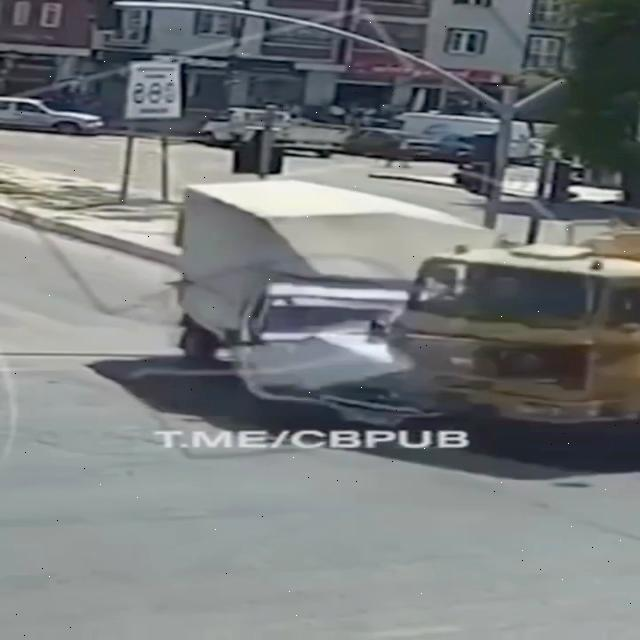accident: (142, 167, 640, 467)
